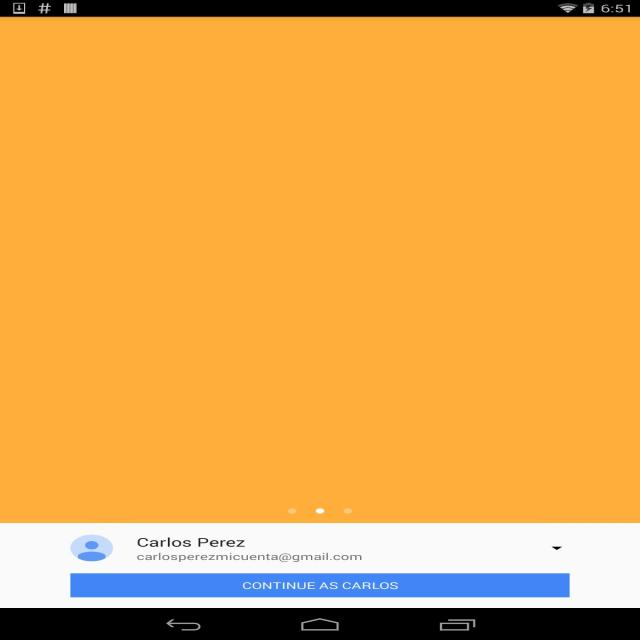button: (70, 573, 569, 599), (543, 541, 571, 558)
image: (2, 18, 640, 524), (72, 532, 115, 564)
text: (136, 552, 367, 563), (136, 534, 248, 548)
